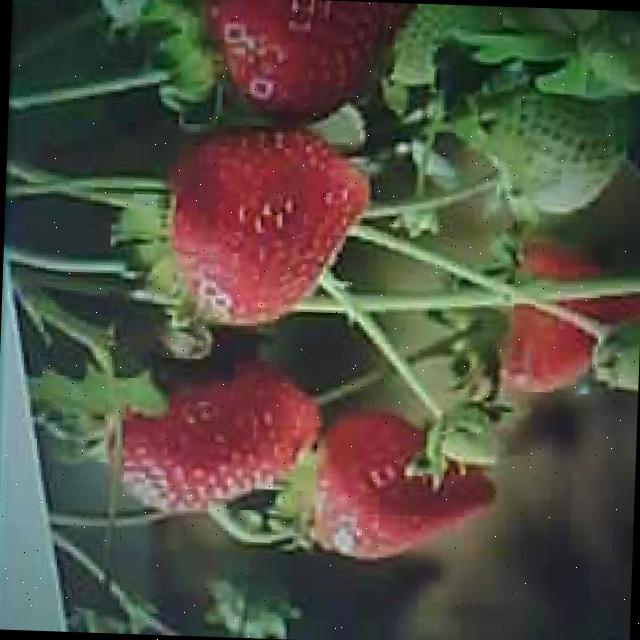strawberry: (158, 122, 364, 321), (106, 354, 321, 518), (313, 412, 497, 560), (482, 80, 630, 216), (430, 402, 502, 465)
